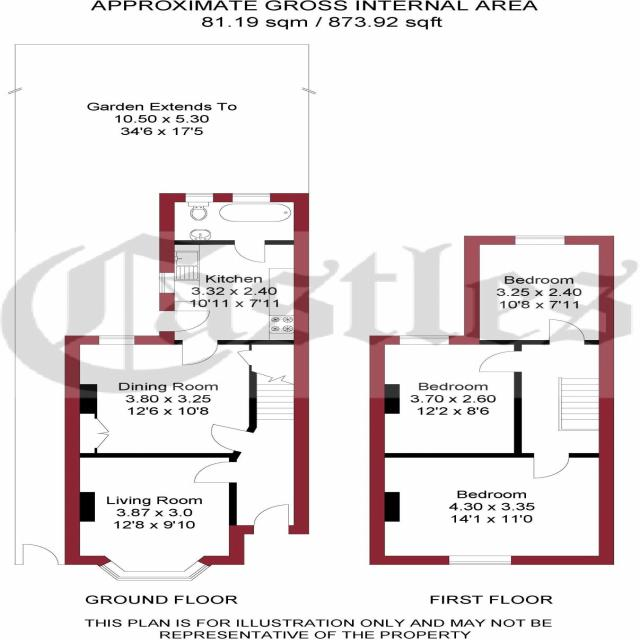DOOR: (210, 423, 254, 453), (250, 504, 290, 535), (159, 310, 212, 333), (193, 459, 238, 484), (478, 349, 523, 373), (532, 453, 571, 480), (547, 319, 586, 345), (180, 340, 218, 366), (232, 240, 267, 264)
ROOM: (369, 452, 615, 565), (64, 335, 257, 459), (64, 453, 244, 580), (159, 240, 309, 366), (370, 335, 522, 458), (464, 235, 615, 345)
WINDOW: (97, 560, 211, 580), (447, 555, 513, 565), (397, 335, 451, 345), (513, 235, 566, 245), (230, 193, 271, 203), (97, 335, 137, 345), (158, 272, 176, 294), (183, 193, 215, 203)
